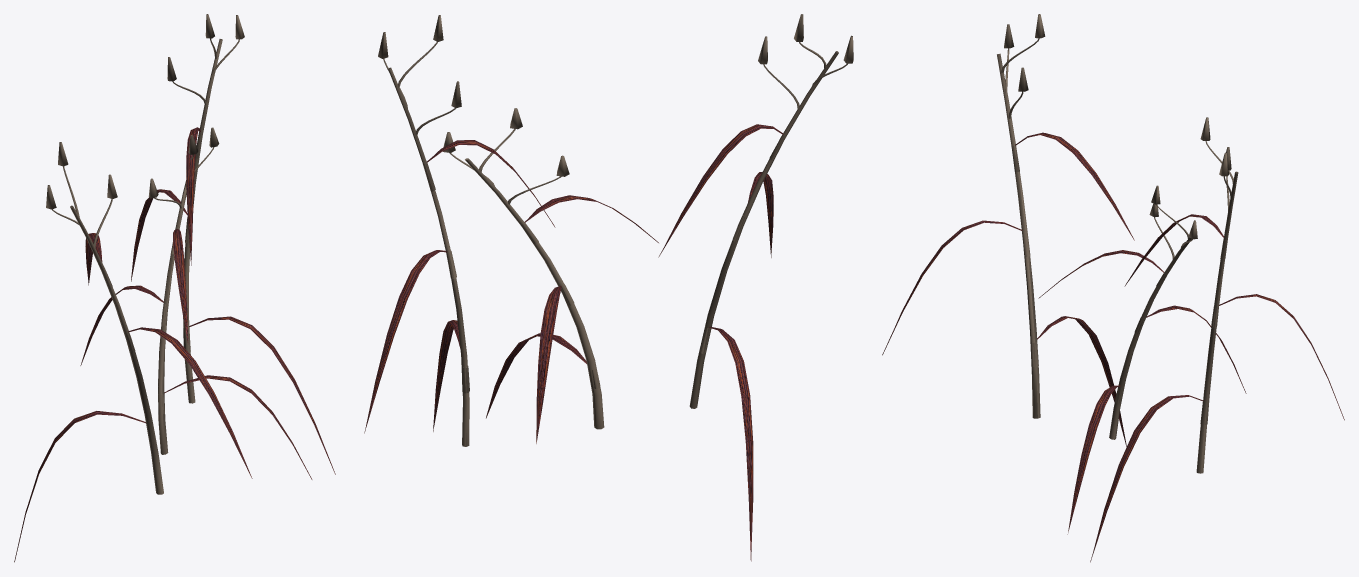
The model's file is dryshoots_01.glb.
3 views of the same model, side by side, from view 1: azimuth 30°, elevation 25°; view 2: azimuth 150°, elevation 25°; view 3: azimuth 270°, elevation 25° (orthographic). The views are drawn at different scales.
Visible parts, largest first — view 1: export; view 2: export; view 3: export.
Part boxes in pixels (x1,y1,x2,y2): export: [14, 14, 335, 562]; export: [364, 14, 853, 561]; export: [882, 14, 1344, 562].
Bounding box in the file's own units: 0.8343 × 1.11 × 1.05.
Materials: 2 (2 with a texture image).
